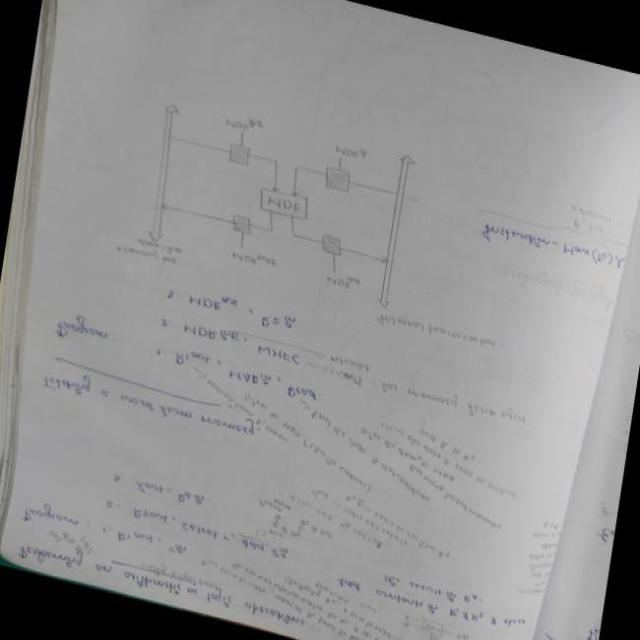Figure Detection - v3 Dataset Version2: (100, 60, 539, 373)
